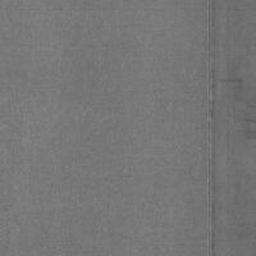Welding line: (205, 0, 218, 256)
